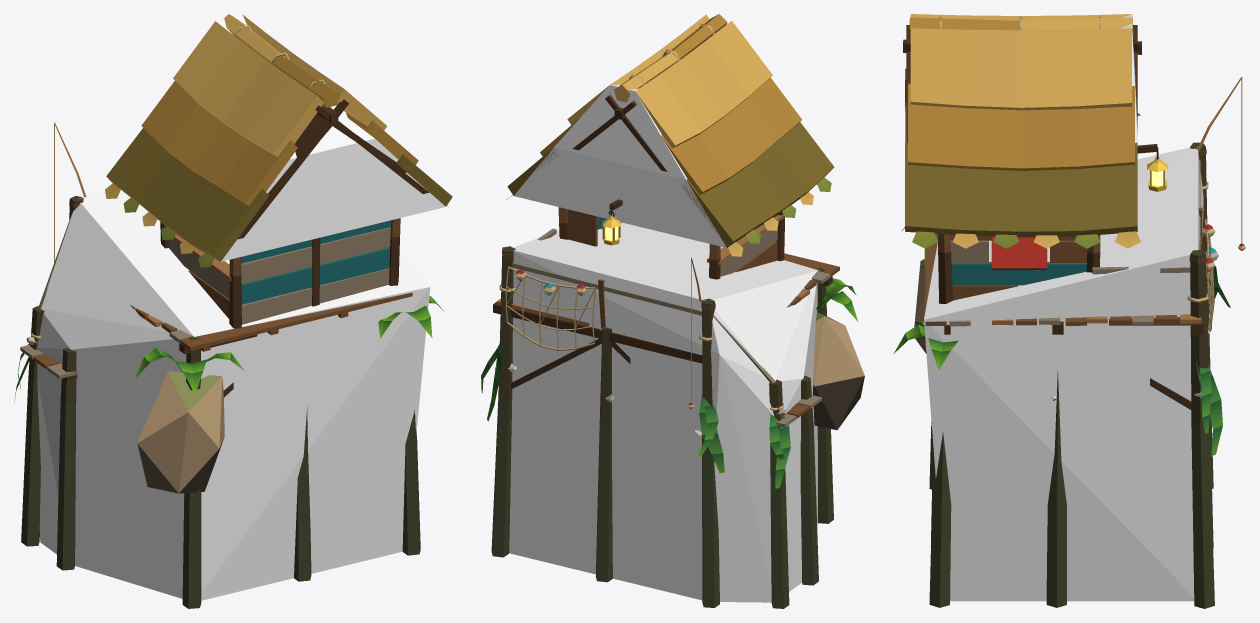
The model's file is tropical_fishing_stilts_hut.glb.
3 renders of one model, left to right at view 1: azimuth 30°, elevation 25°; view 2: azimuth 150°, elevation 25°; view 3: azimuth 270°, elevation 25°, orthographic. The views are drawn at different scales.
Parts seen in each view (by area): view 1: col_fishhut_deck, TropicalFishingStiltsHut, col_fishhut_roof; view 2: col_fishhut_deck, TropicalFishingStiltsHut, col_fishhut_roof; view 3: col_fishhut_deck, TropicalFishingStiltsHut.
Part boxes in pixels (<box>): col_fishhut_deck: <box>37,190,430,600</box>; TropicalFishingStiltsHut: <box>14,14,452,608</box>; col_fishhut_roof: <box>216,14,445,261</box>; col_fishhut_deck: <box>509,222,817,602</box>; TropicalFishingStiltsHut: <box>481,14,864,608</box>; col_fishhut_roof: <box>514,84,726,247</box>; col_fishhut_deck: <box>924,146,1203,601</box>; TropicalFishingStiltsHut: <box>893,14,1245,608</box>.
Bounding box in the file's own units: 8.48 × 12.57 × 7.49.
